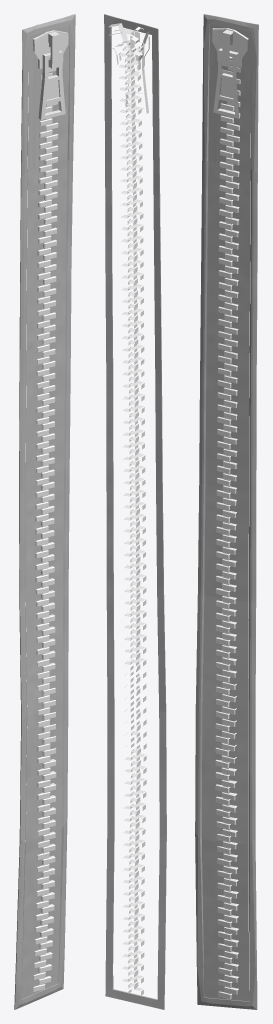
File: Ziplock_L.glb
3 views of the same model, side by side, from view 1: azimuth 30°, elevation 25°; view 2: azimuth 150°, elevation 25°; view 3: azimuth 330°, elevation 25° (orthographic).
Parts seen in each view (by area): view 1: Cloth1, Ziplock_L1, Rope1; view 2: Rope1, Ziplock_L1; view 3: Cloth1, Rope1, Ziplock_L1.
Boxes of the visible parts, x1,y1,x2,y2 form: Cloth1: [21, 25, 69, 998]; Ziplock_L1: [33, 24, 68, 991]; Rope1: [14, 14, 75, 1009]; Rope1: [104, 14, 166, 1009]; Ziplock_L1: [108, 23, 149, 995]; Cloth1: [202, 24, 251, 1001]; Rope1: [195, 14, 258, 1009]; Ziplock_L1: [212, 18, 248, 999].
Bounding box in the file's own units: 0.0177 × 0.2738 × 0.00611.
Materials: 3 (3 with a texture image).
